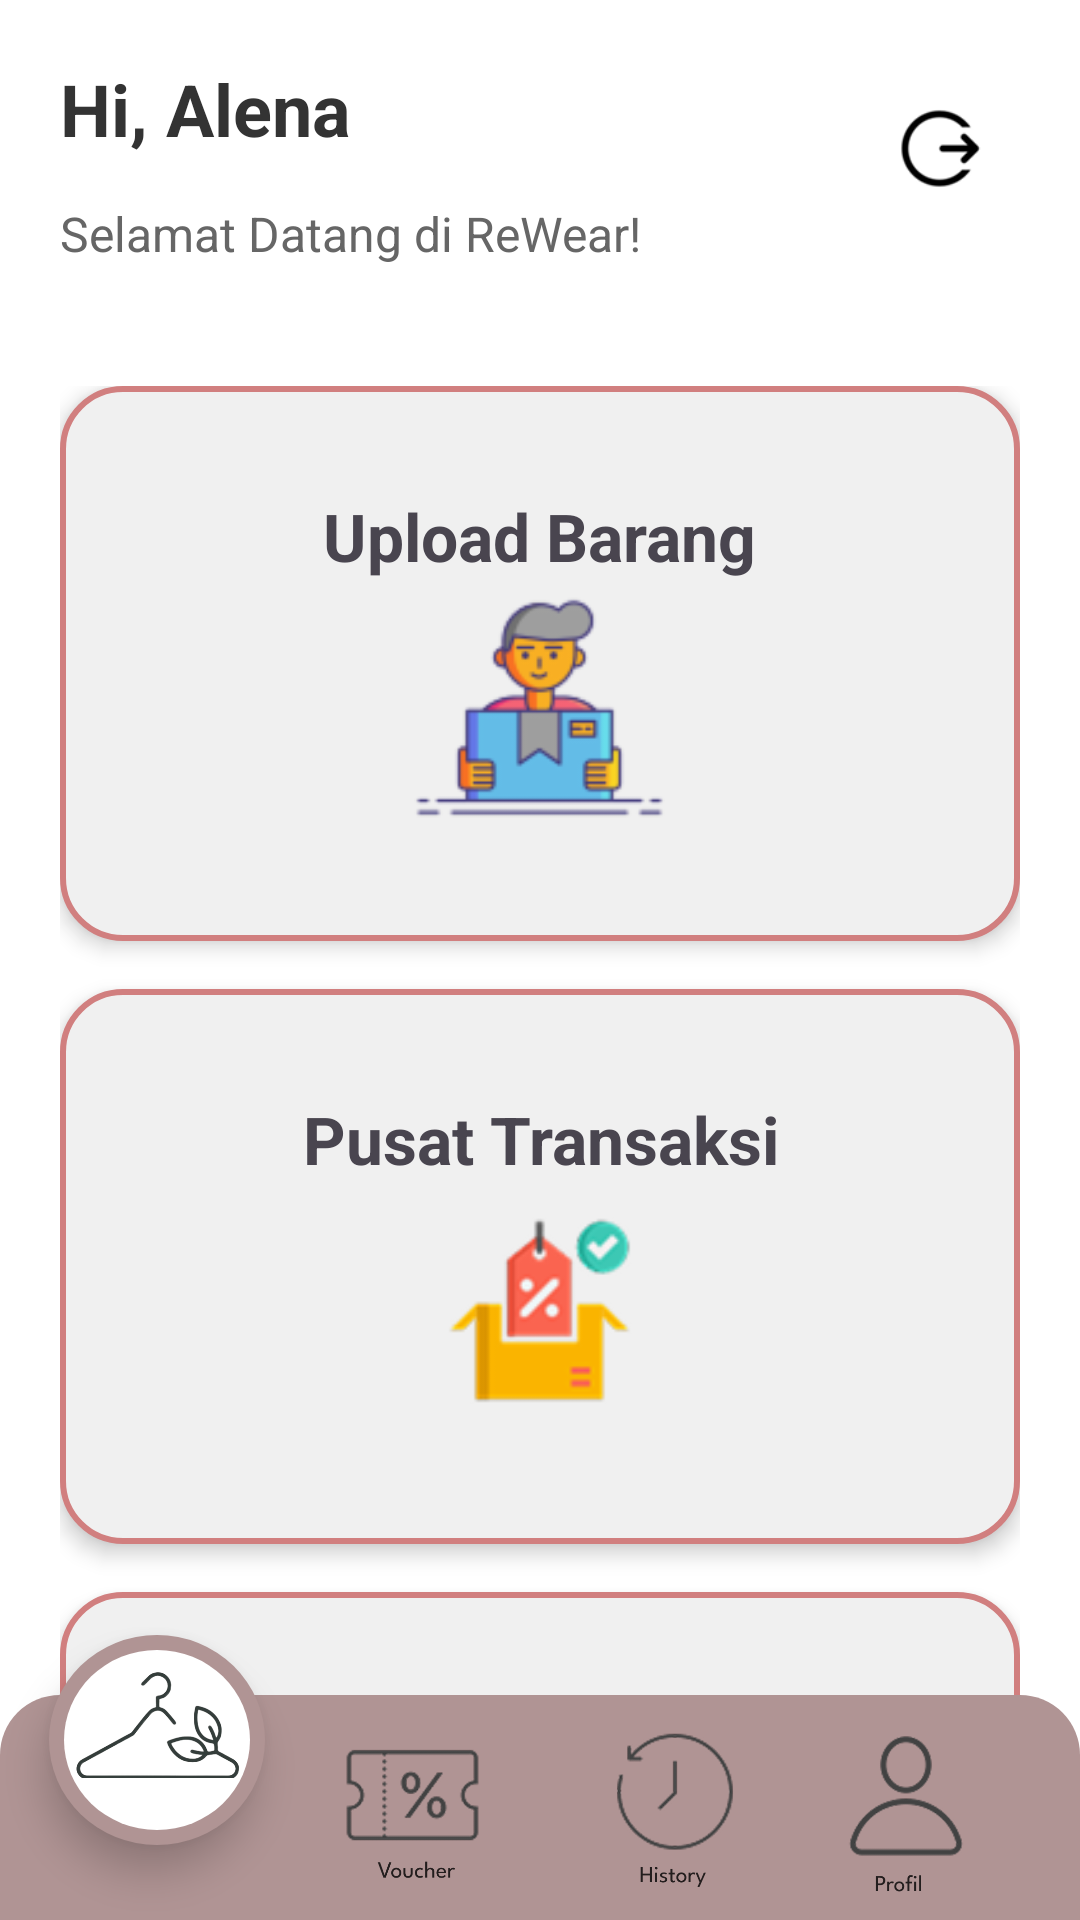

Screen size 1080 × 1920. Icon name, then its center in pixels as [x,y]:
menjual: [539,707]
